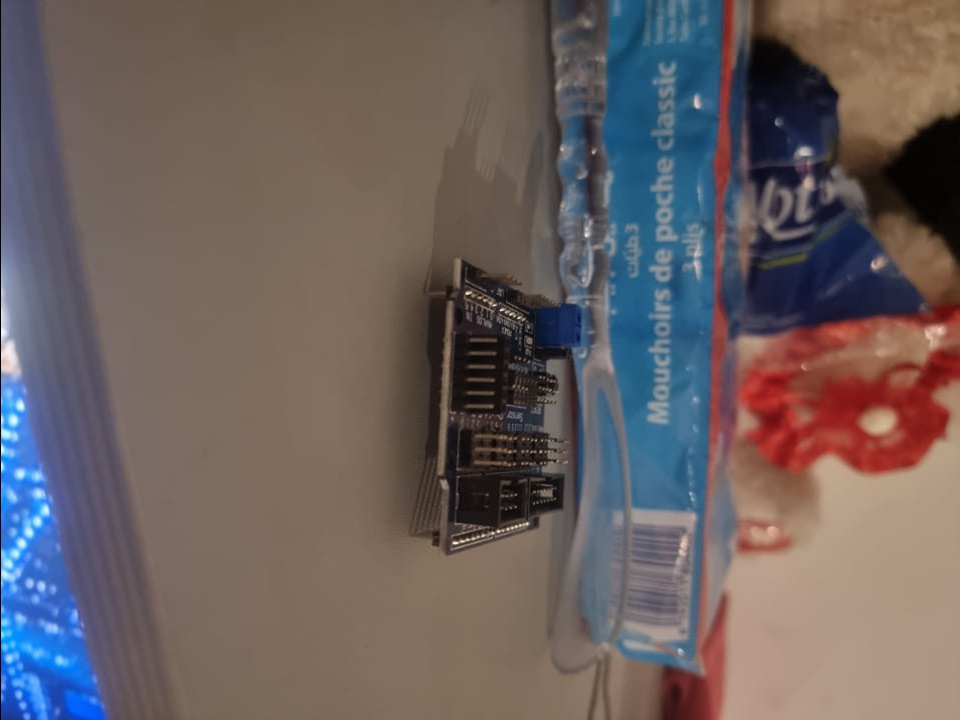5V EXPANSION: (435, 258, 583, 559)
